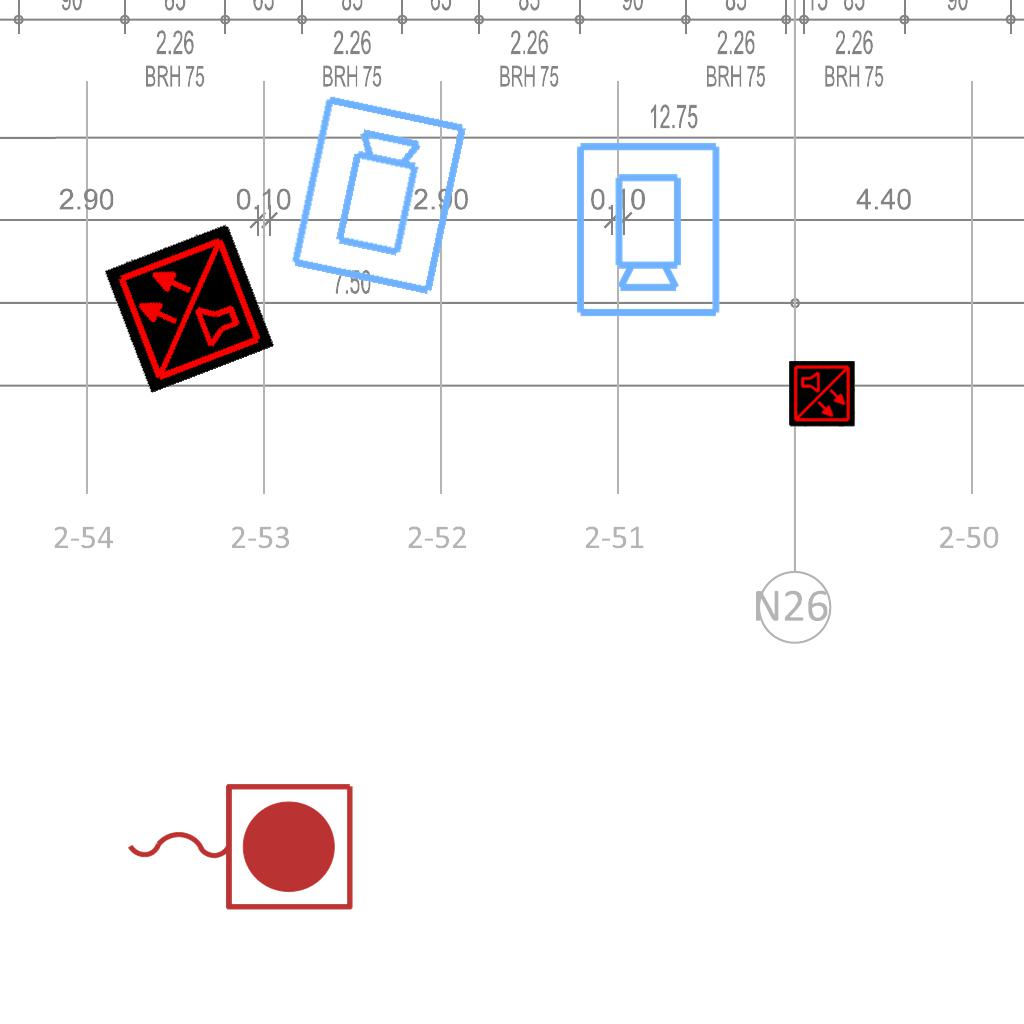KFO_Kamera_mit_Festobjektiv: (285, 90, 475, 302), (570, 138, 724, 320)
OKW_Multisensormelder_(Kombination_optischer_Rauch-Kahlenmonoxid_Waerme-Melder): (103, 222, 275, 394), (789, 361, 855, 427)
Zugtaster: (117, 773, 361, 917)
